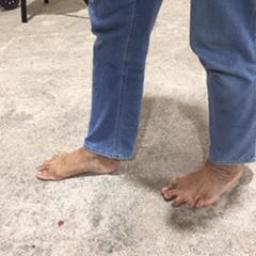Medial View -Right Foot-: (28, 127, 132, 188)
